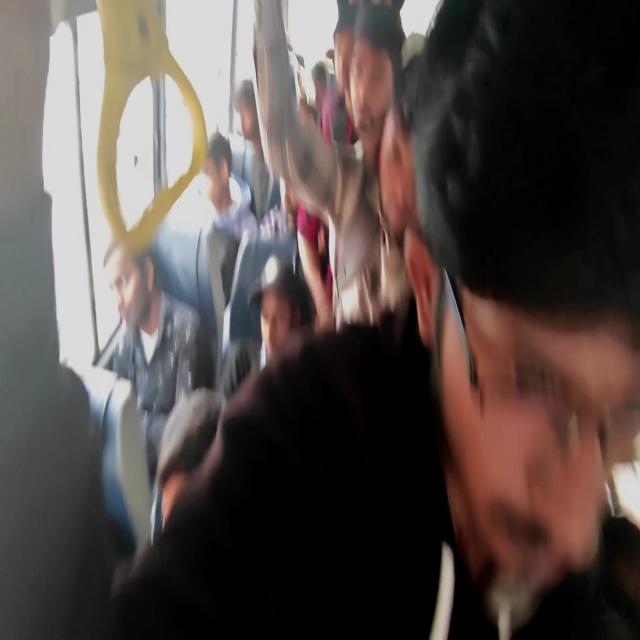person: (412, 9, 640, 601), (352, 39, 452, 208), (383, 82, 460, 294), (21, 372, 98, 552), (160, 405, 235, 552), (98, 240, 154, 330), (281, 261, 324, 363), (288, 127, 336, 209), (327, 28, 374, 108), (236, 80, 278, 161), (212, 153, 250, 222), (317, 58, 340, 106)
